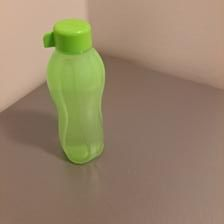bottle: (42, 19, 104, 164)
